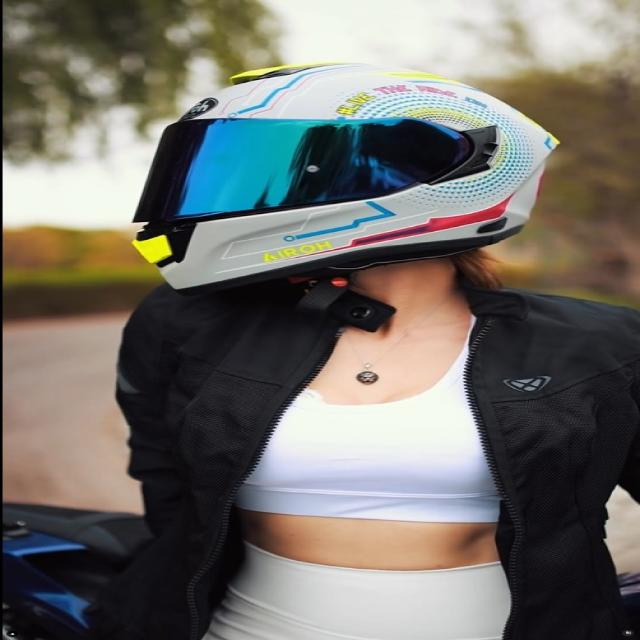helmet: (119, 53, 564, 303)
